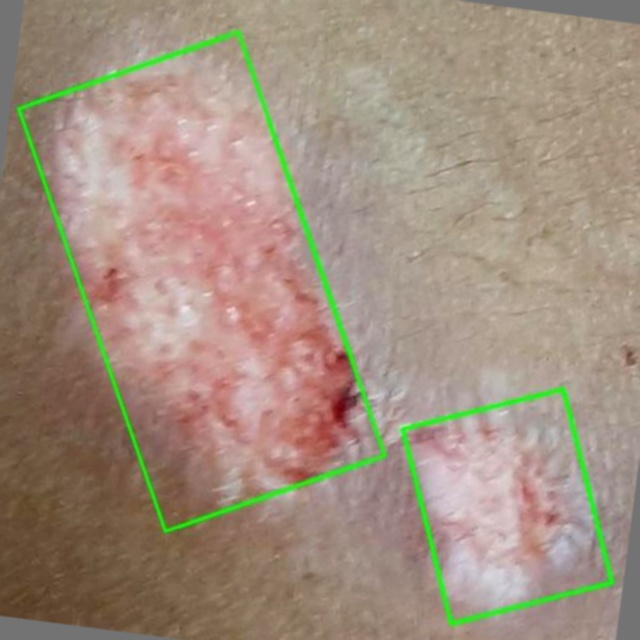Eczema: (17, 32, 384, 532), (402, 389, 610, 623)
